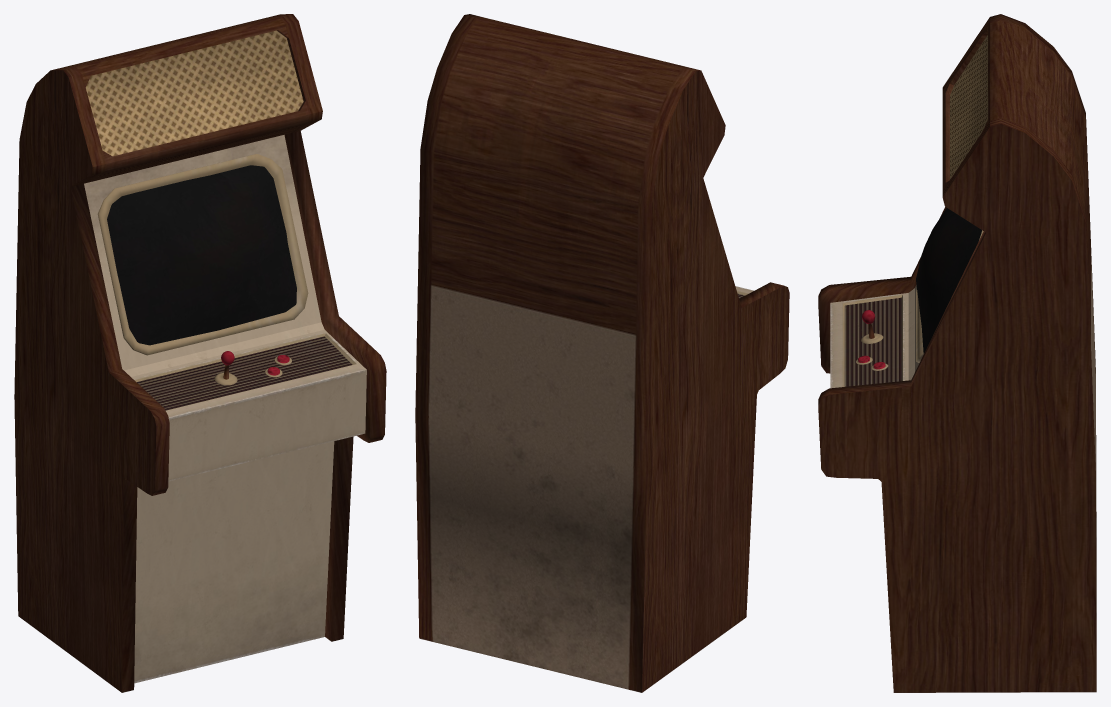
The model's file is showcaseArcadeCabinet.d161109a.glb.
3 renders of one model, left to right at view 1: azimuth 30°, elevation 25°; view 2: azimuth 150°, elevation 25°; view 3: azimuth 270°, elevation 25°, orthographic. The views are drawn at different scales.
Visible parts, largest first — view 1: ArcadeCabinet_LowPoly.003; view 2: ArcadeCabinet_LowPoly.003; view 3: ArcadeCabinet_LowPoly.003.
Part boxes in pixels (box(x1,y1,x2,y2)): ArcadeCabinet_LowPoly.003: box(14, 14, 386, 692); ArcadeCabinet_LowPoly.003: box(415, 14, 789, 692); ArcadeCabinet_LowPoly.003: box(818, 14, 1096, 692).
Size of the model in its own units: 0.8 by 1.94 by 0.8573.
Materials: 1 (1 with a texture image).
